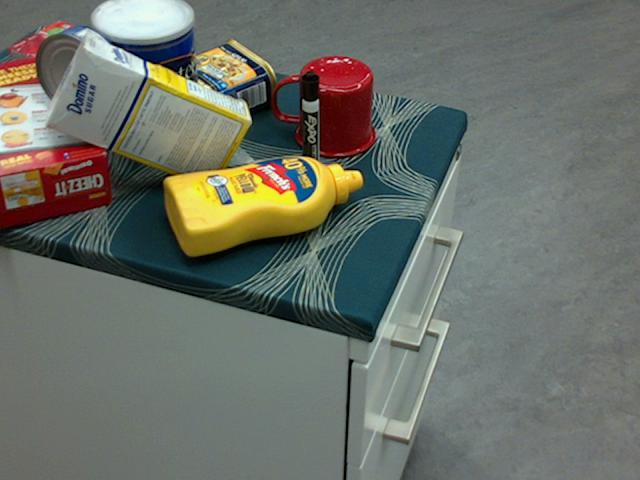cracker_box: (0, 56, 112, 227)
gelatin_box: (11, 21, 106, 84)
large_marker: (299, 70, 320, 178)
master_chef_can: (93, 0, 198, 156)
mug: (272, 55, 373, 157)
mustard_bottle: (163, 156, 363, 256)
potted_meat_can: (169, 38, 277, 126)
sugar_box: (47, 35, 252, 187)
tomato_soup_can: (79, 14, 164, 105)
tuna_fish_can: (35, 26, 125, 116)
